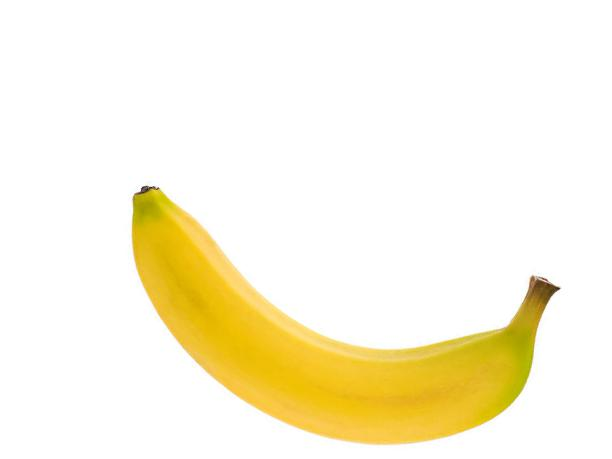banana: (130, 184, 563, 446)
